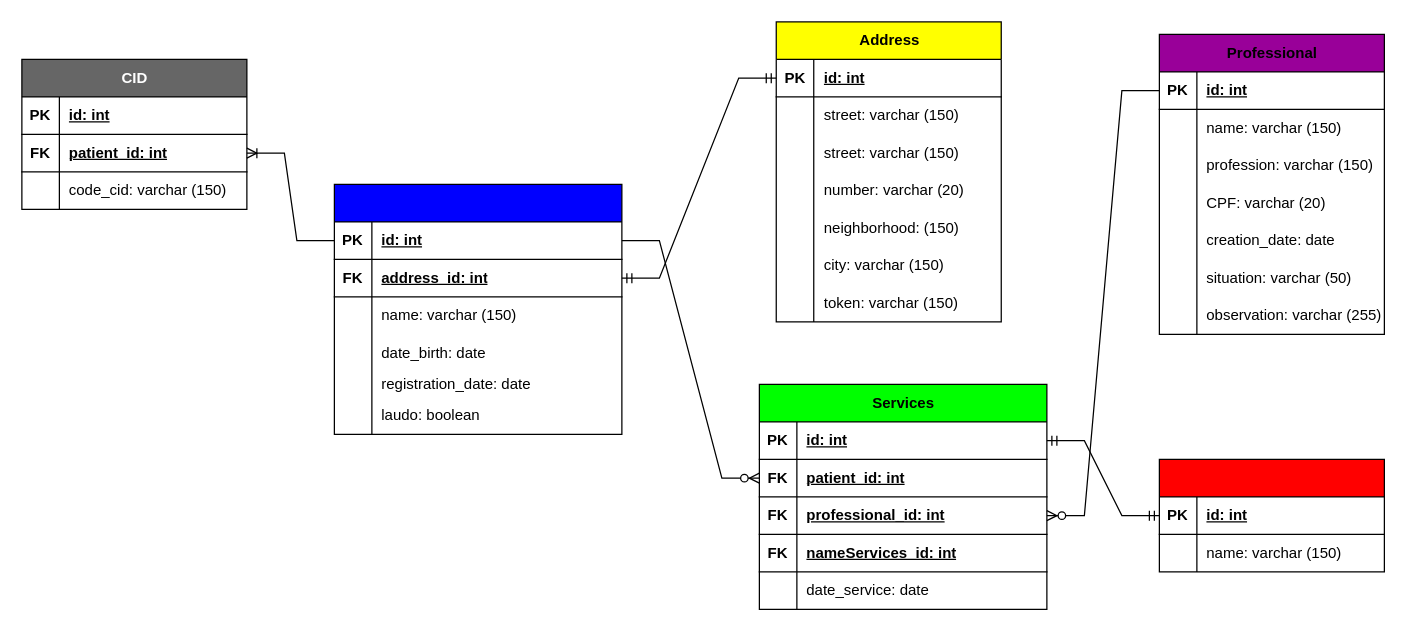
This 1406x631 diagram has some shape labels left out. The box of each missing label's shape, as (x1, y1, x2, y2) in pixels:
nameServices: (1158, 458, 1384, 572)
Patient: (333, 183, 622, 434)
